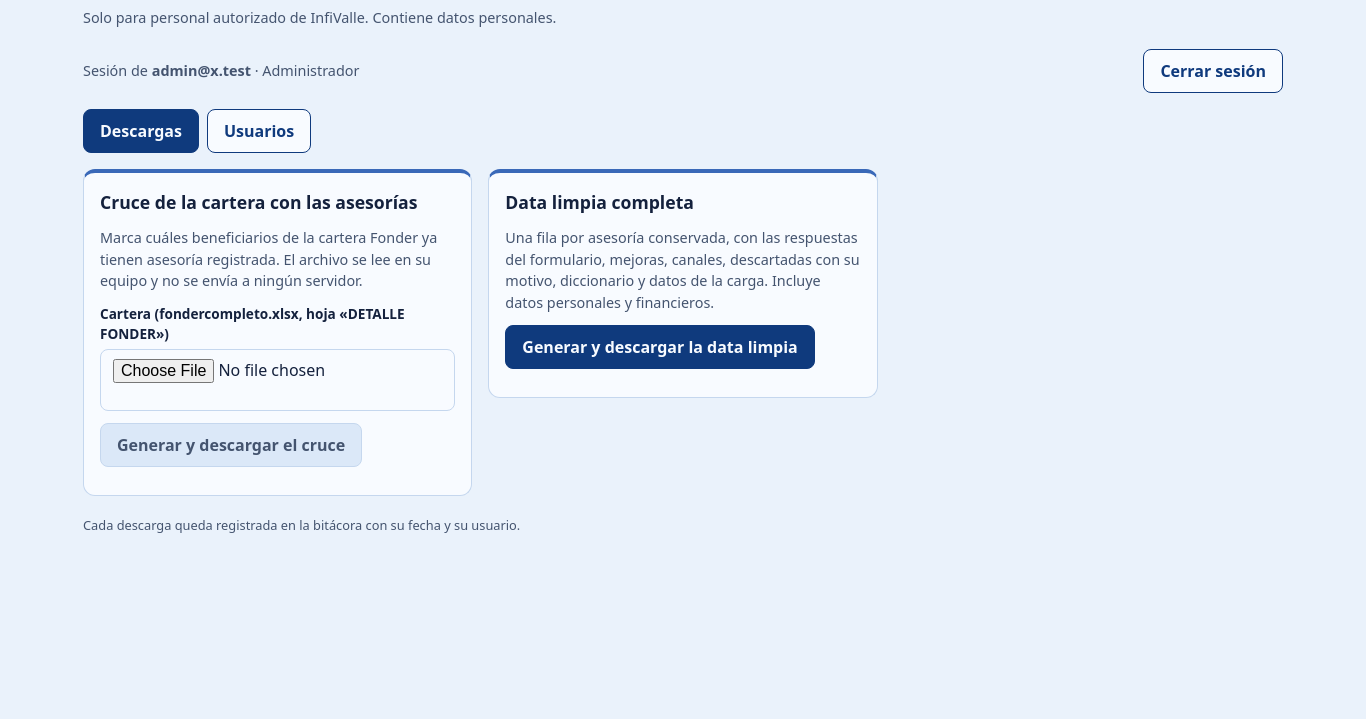
Test: Panel de usuarios › lista los usuarios; en la propia cuenta no hay acciones
Click the button "Usuarios" at (259, 131), box [207,109,311,153]
(page scrolled)
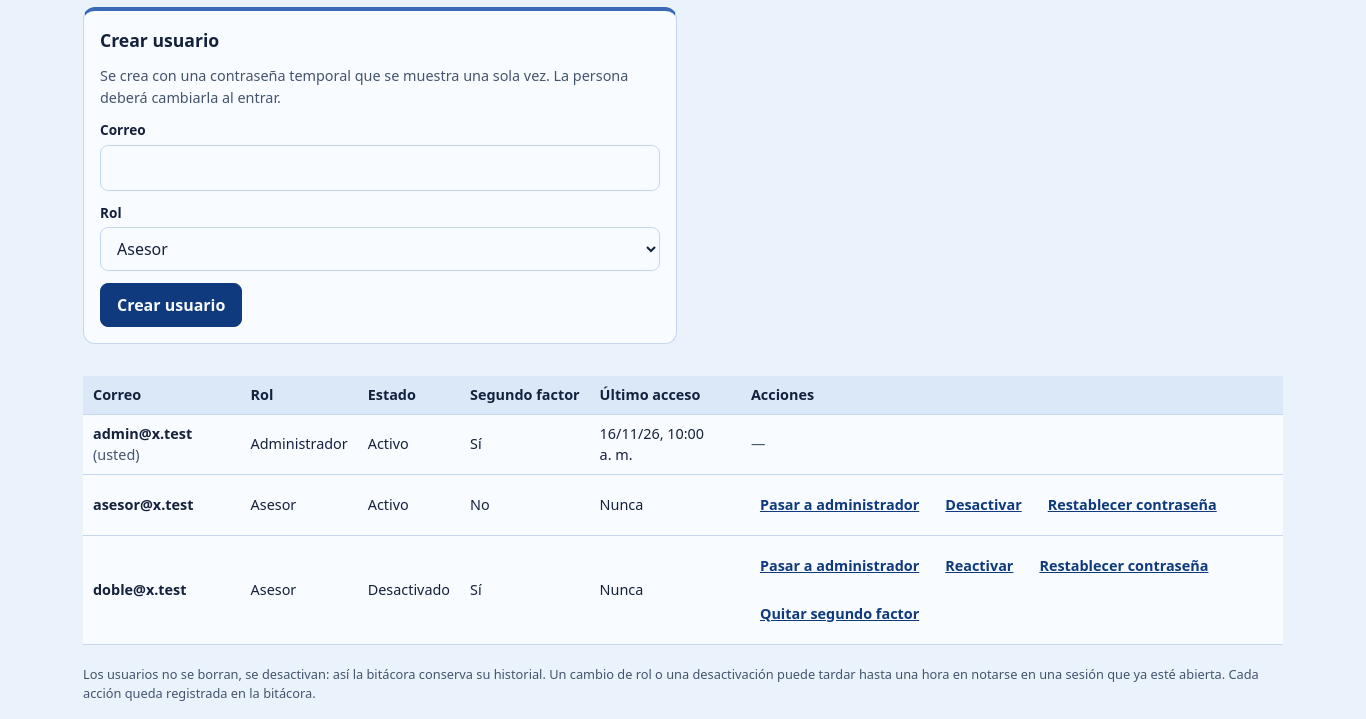
Expected: the text "(usted)" is shown, [93,445,140,464]
Expected: the button with aria-label "Pasar a administrador a asesor@x.test" is shown, [751,483,928,527]
Expected: the button with aria-label "Desactivar a asesor@x.test" is shown, [936,483,1031,527]
